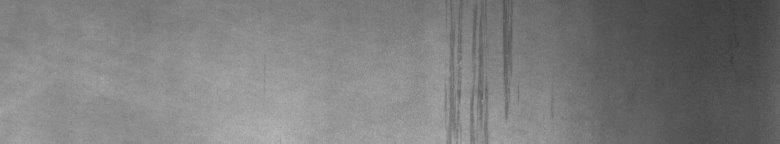ka: (448, 4, 519, 136)
